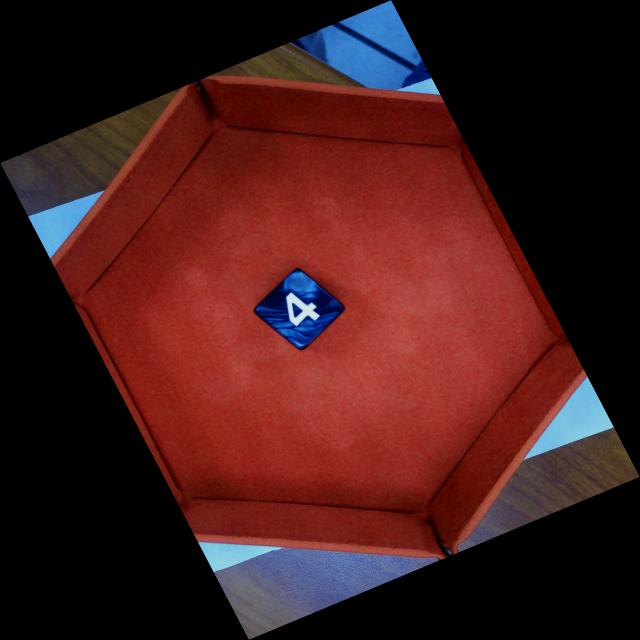dice: (260, 272, 345, 347)
